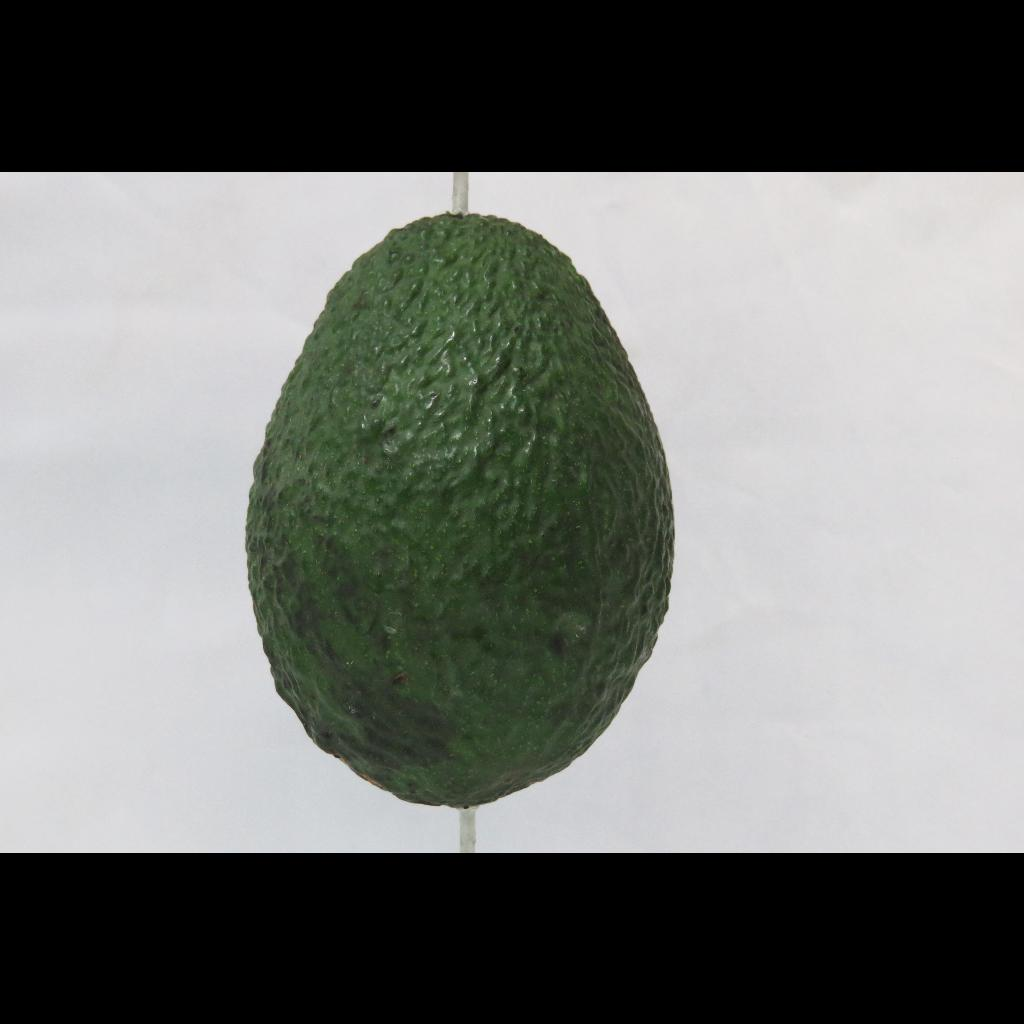Healthy: (221, 184, 705, 836)
